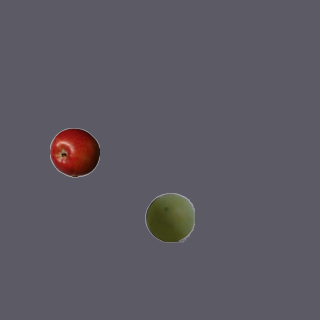Apple Braeburn: (49, 127, 99, 177)
Grape White 4: (144, 192, 194, 242)
